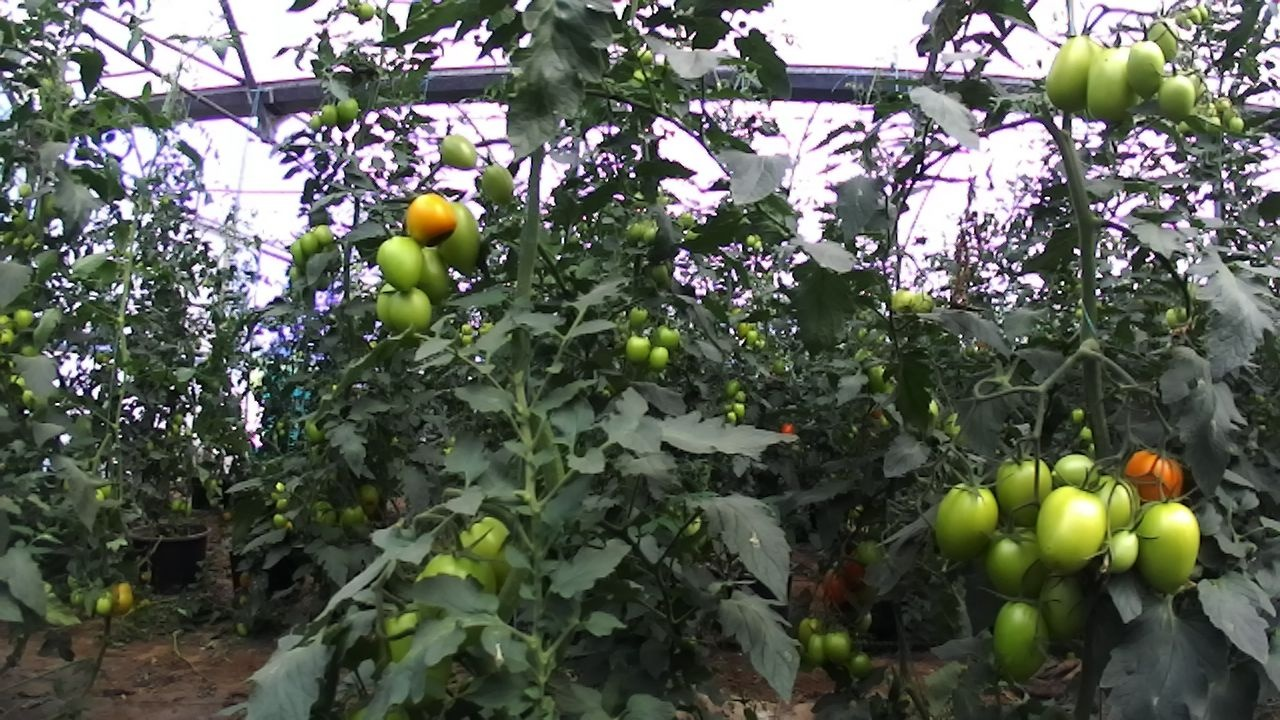tomato: (1030, 478, 1122, 579), (927, 477, 1006, 574), (413, 184, 489, 284), (1135, 492, 1203, 600), (1077, 37, 1146, 137), (984, 598, 1061, 685), (1122, 435, 1195, 520), (988, 441, 1060, 526), (975, 522, 1050, 600), (449, 504, 528, 572), (1040, 30, 1100, 118), (360, 281, 445, 342), (370, 232, 434, 297), (1118, 33, 1176, 104), (403, 189, 462, 249), (467, 156, 527, 211), (1150, 68, 1201, 130), (1136, 15, 1188, 65), (434, 131, 482, 174), (819, 622, 856, 670), (803, 626, 834, 672), (841, 648, 876, 687), (109, 576, 140, 618), (622, 331, 656, 367), (906, 286, 939, 322), (345, 0, 384, 30), (885, 283, 919, 317), (623, 299, 654, 332), (653, 320, 684, 353), (641, 342, 674, 372), (295, 229, 325, 262), (285, 234, 313, 269), (11, 302, 37, 337), (89, 592, 118, 622), (335, 94, 360, 125), (311, 221, 337, 249), (315, 97, 336, 130), (1225, 113, 1248, 136), (1184, 4, 1207, 26), (307, 113, 325, 132)
